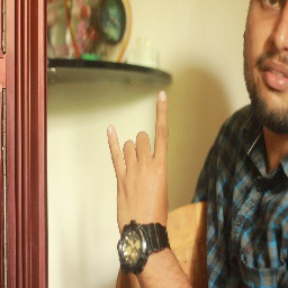V: (105, 87, 177, 228)
